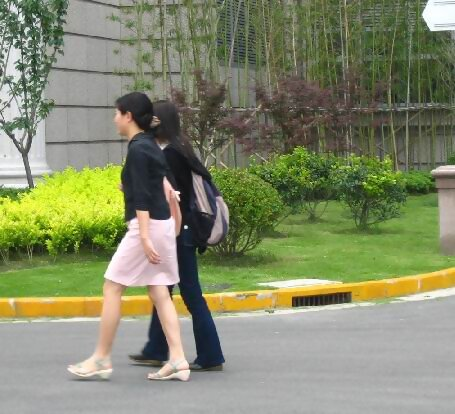person: (67, 82, 191, 383), (153, 103, 221, 370)
